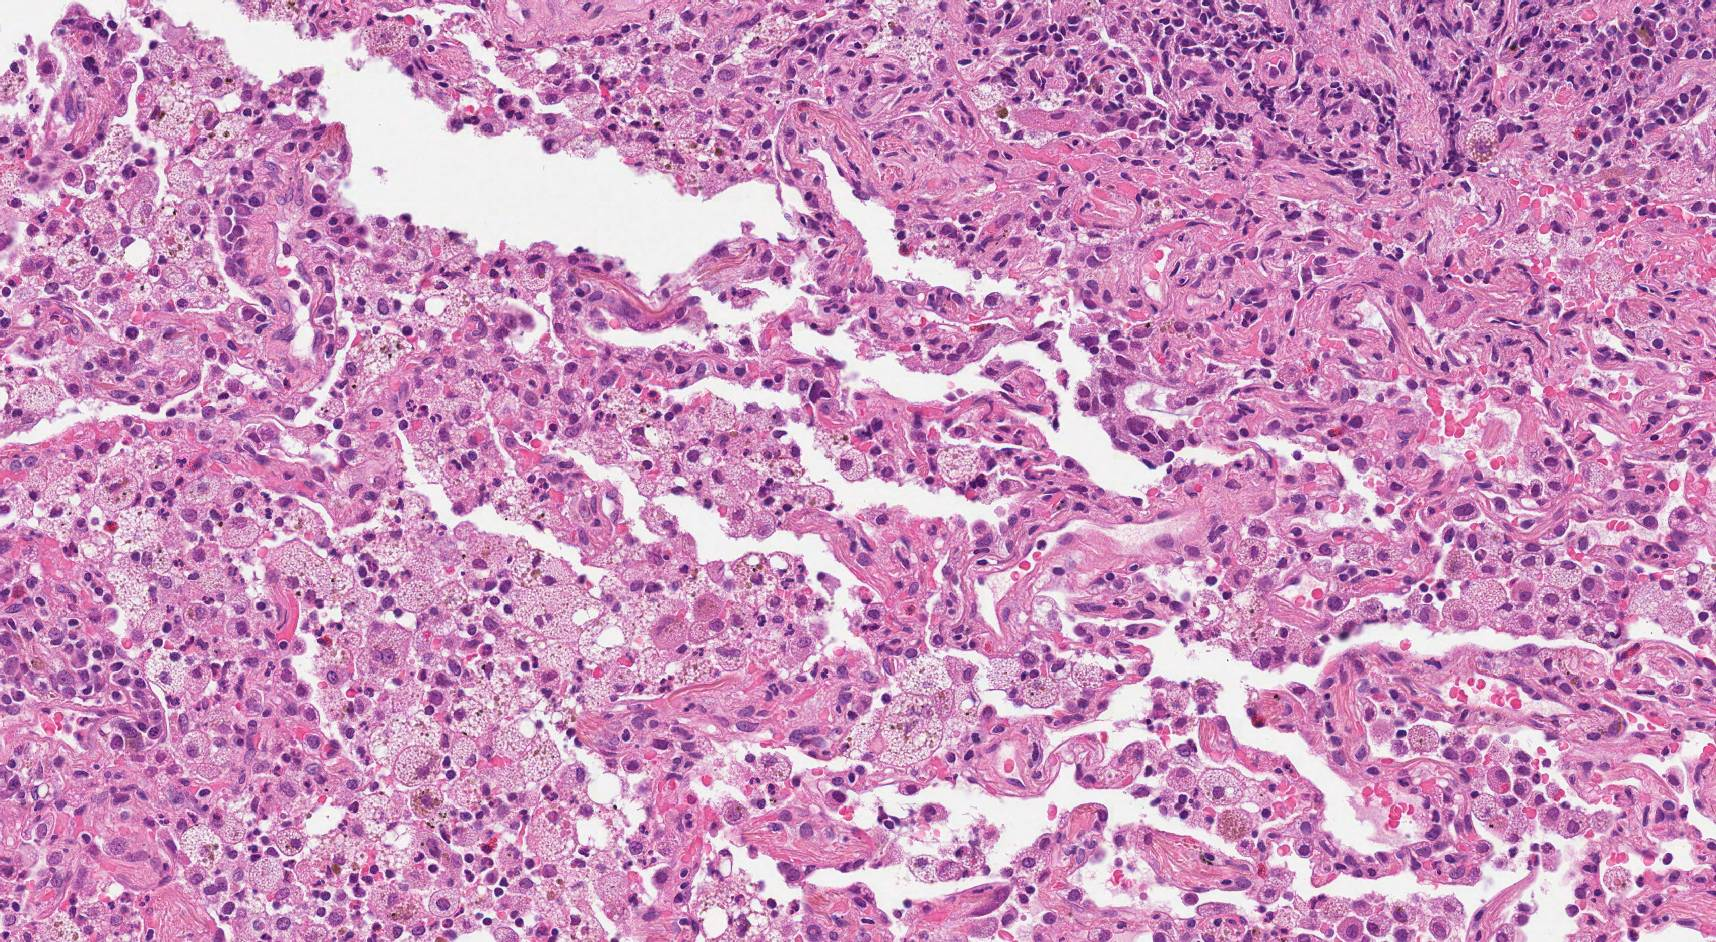stas: (1077, 358, 1193, 470)
